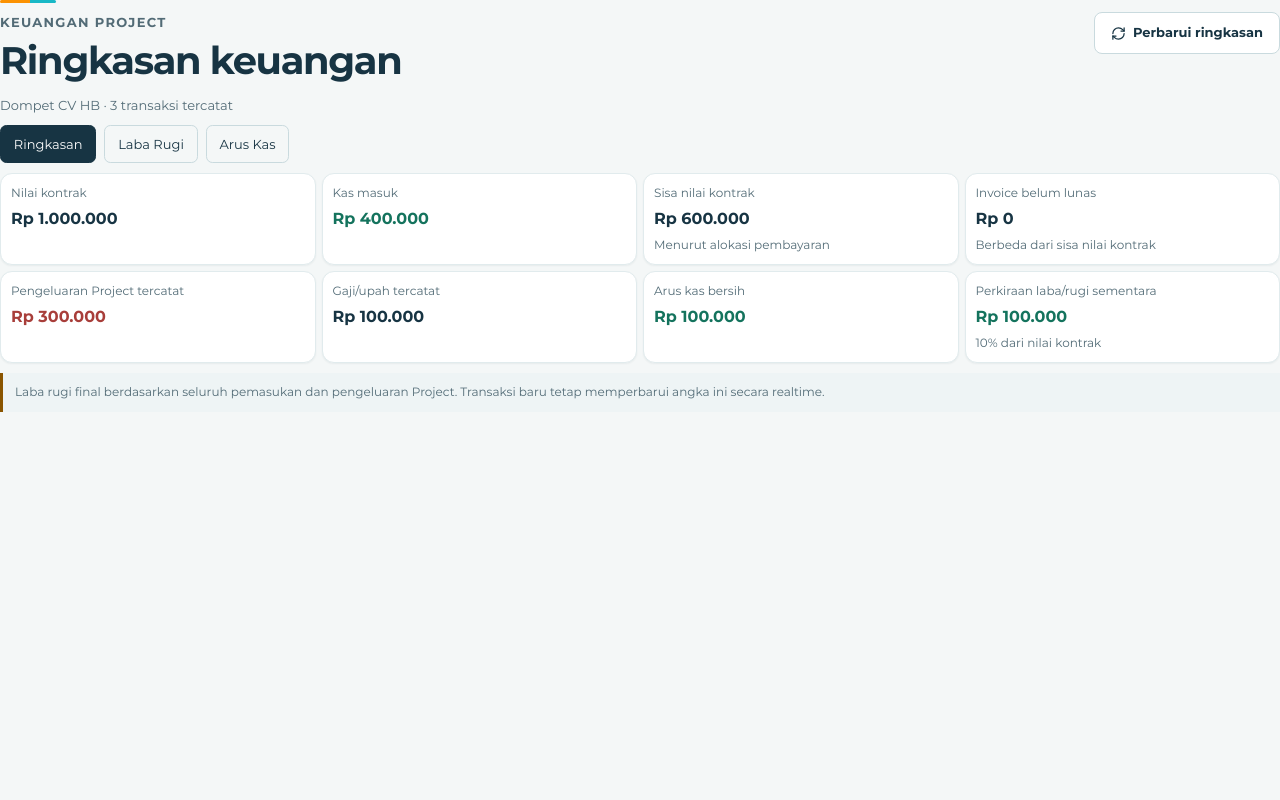
Test: ProjectProfitabilityWorkspace › renders contract margin, cash P&L, salary, cost categories, and evidence provenance
Expected: the text "Laba rugi final berdasarkan seluruh pemasukan" is shown, [15,384,825,399]
Click the button "Laba Rugi" at x=151, y=144, box [104,125,198,163]
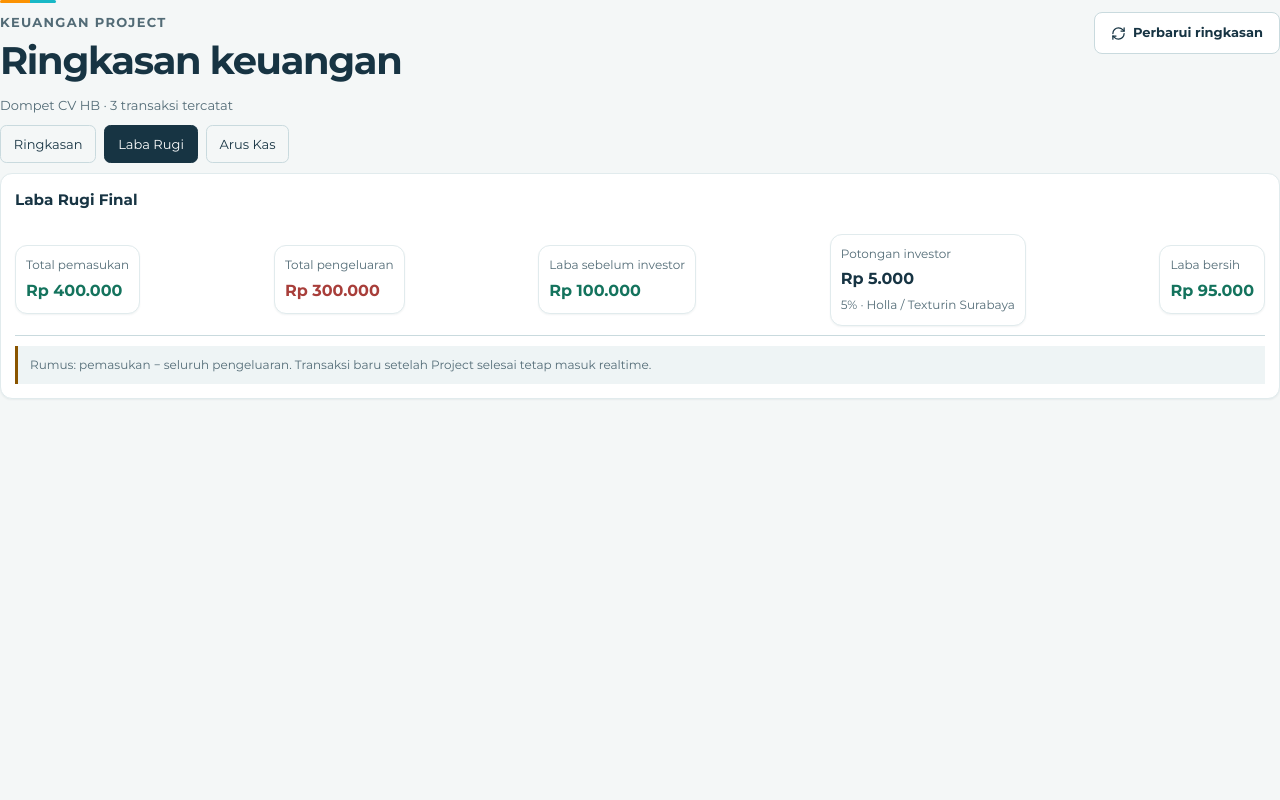
Expected: the heading "Laba Rugi Final" is shown, [15,190,138,209]
Click the button "Arus Kas" at x=248, y=144, box [206,125,289,163]
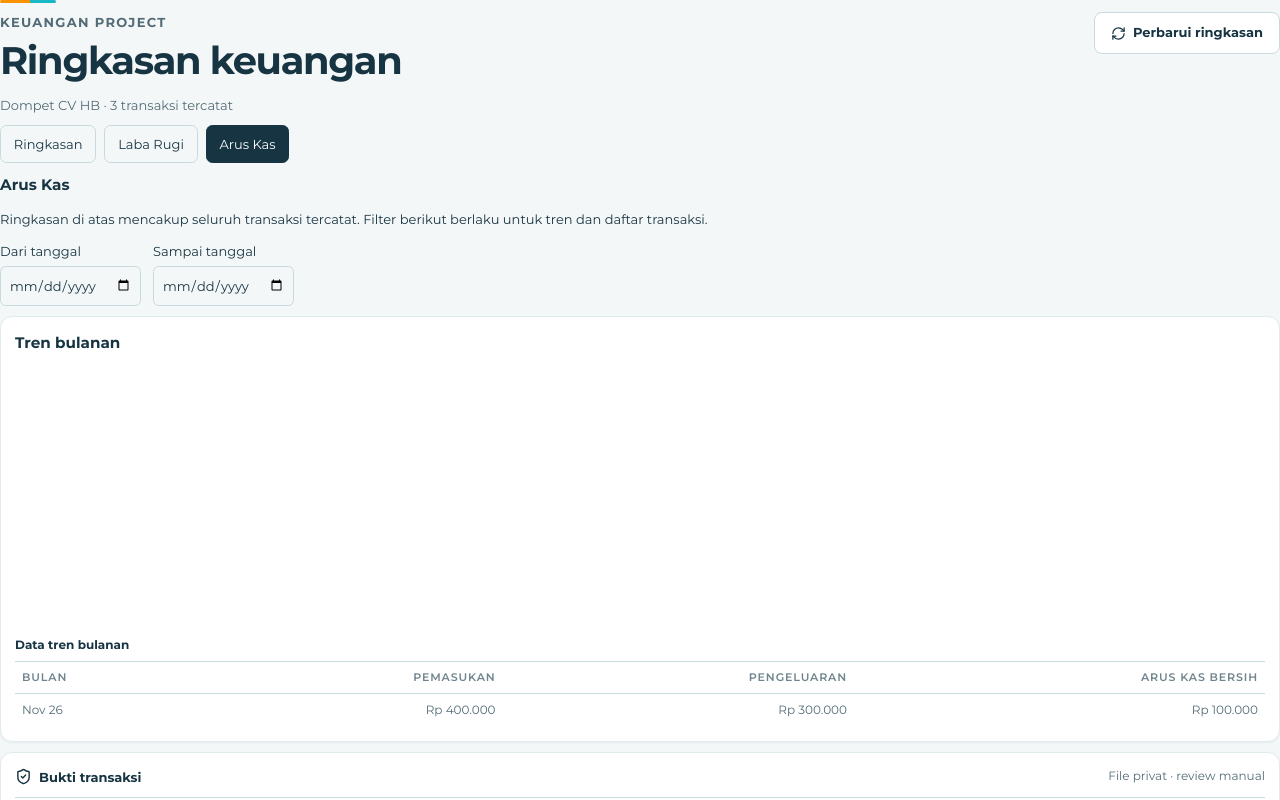
Result: the text "File privat · review manual" is shown at [1108,767,1265,785]
Result: the table "Data tren bulanan" shows "Nov 26" at [22,702,63,717]
Result: the table "Data tren bulanan" shows "400.000" at [426,702,496,717]
